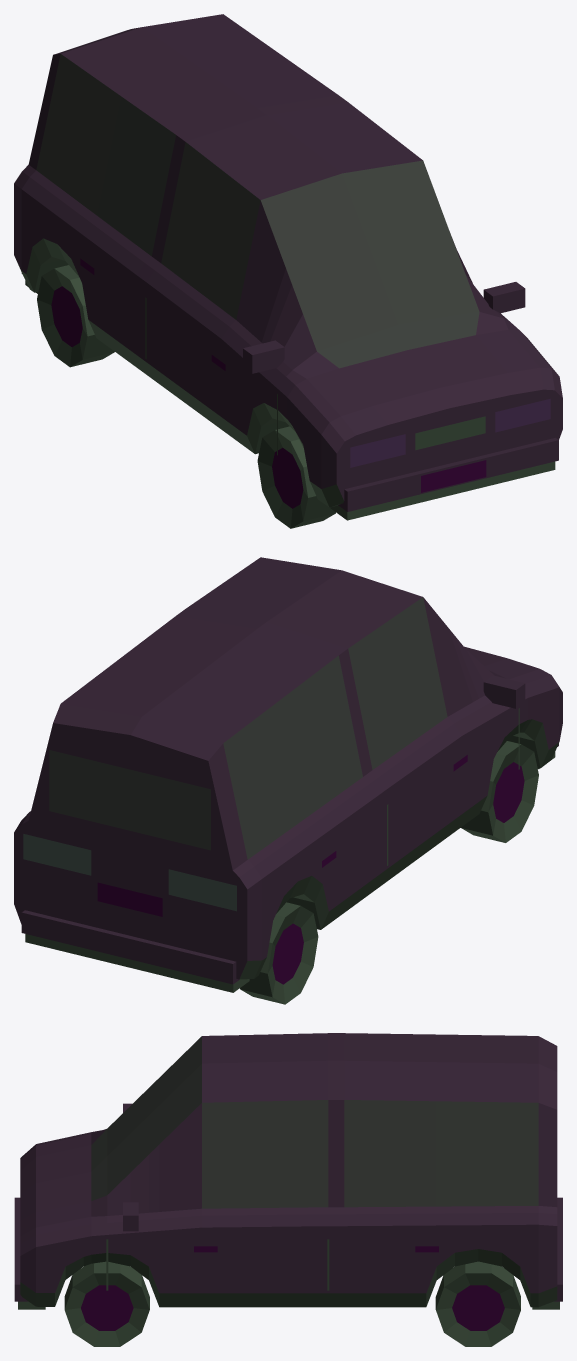
File: kei.glb
3 views of the same model, one above another, from view 1: azimuth 30°, elevation 25°; view 2: azimuth 150°, elevation 25°; view 3: azimuth 270°, elevation 25° (orthographic). The views are drawn at different scales.
Parts seen in each view (by area): view 1: kei; view 2: kei; view 3: kei.
Part boxes in pixels (<box>): kei: <box>14,14,562,528</box>; kei: <box>14,557,562,1004</box>; kei: <box>14,1033,562,1346</box>.
Size of the model in its own units: 1.68 by 1.67 by 3.48.
